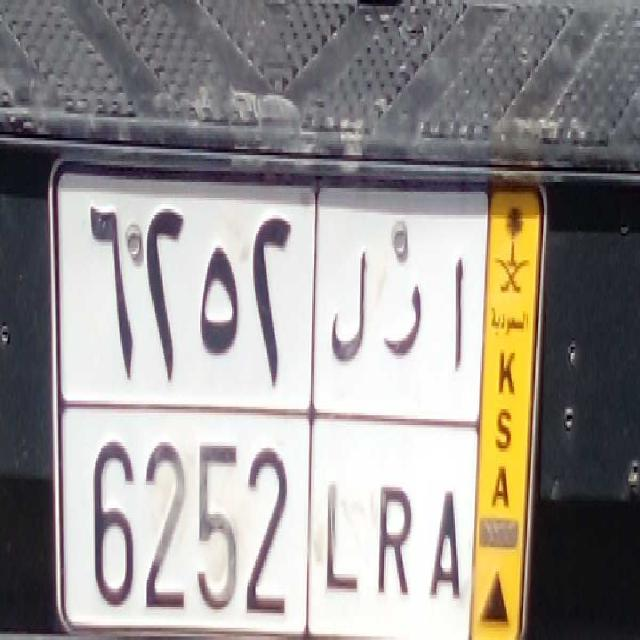license_plate: (70, 401, 473, 640)
